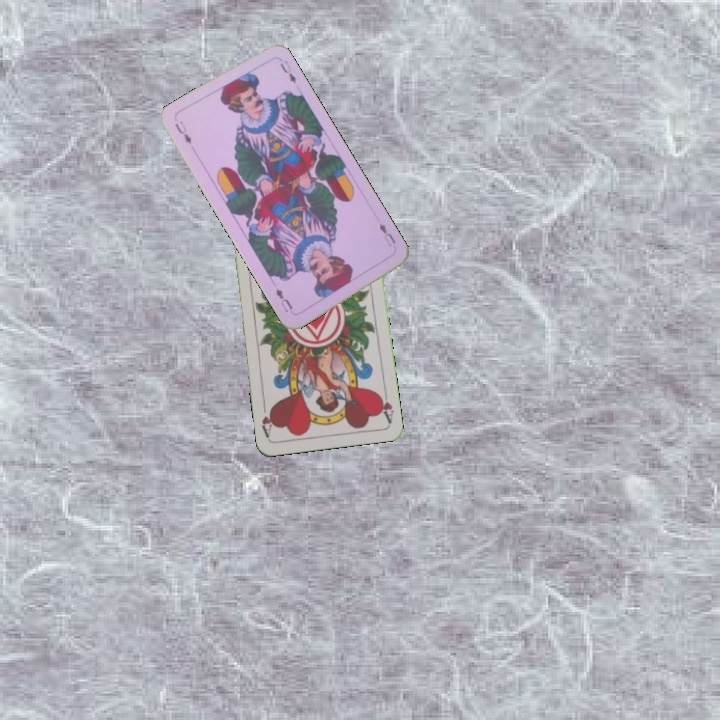EU: (171, 116, 194, 147), (375, 219, 398, 249)
HA: (374, 385, 396, 425)
